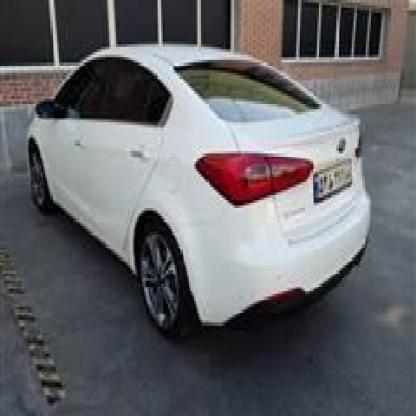Car: (24, 52, 373, 367)
